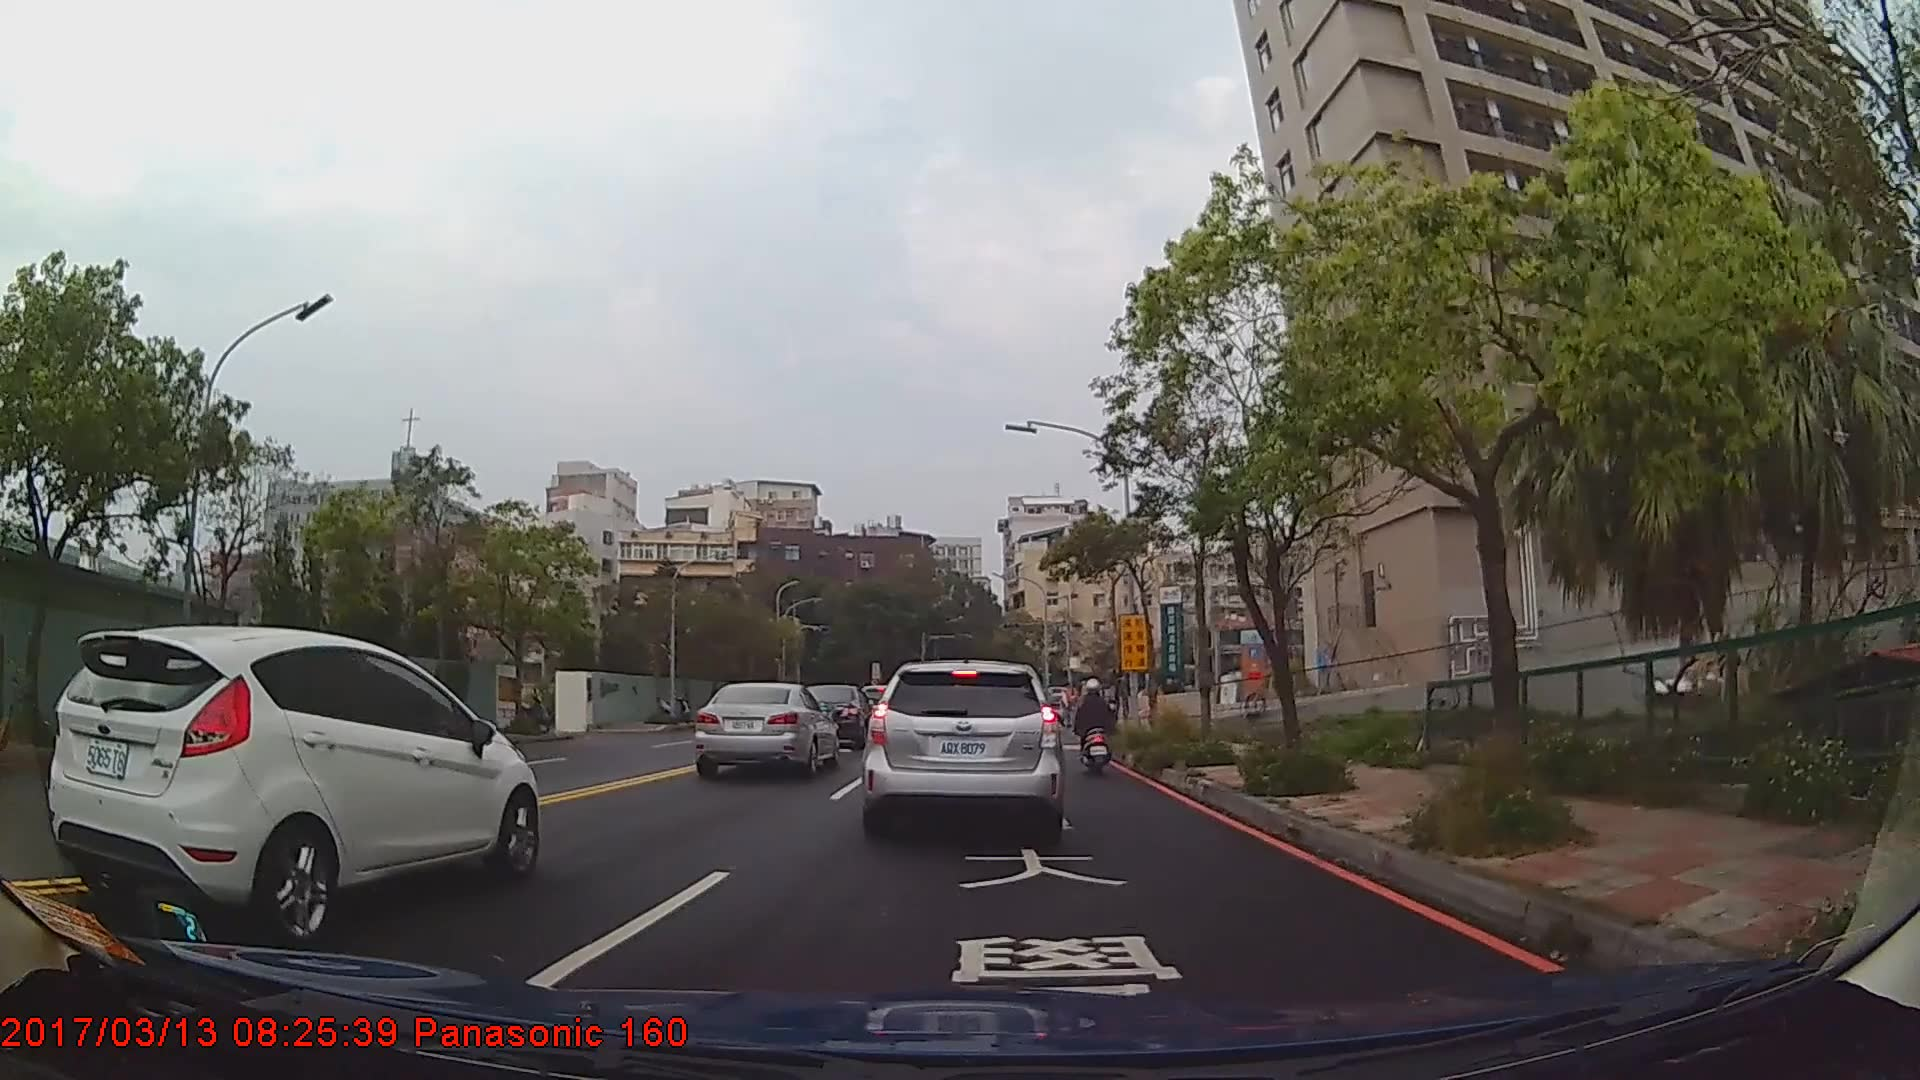rider: (1074, 679, 1117, 781)
vehicle: (46, 625, 539, 944), (859, 658, 1062, 836), (689, 679, 837, 778), (794, 682, 872, 746)
